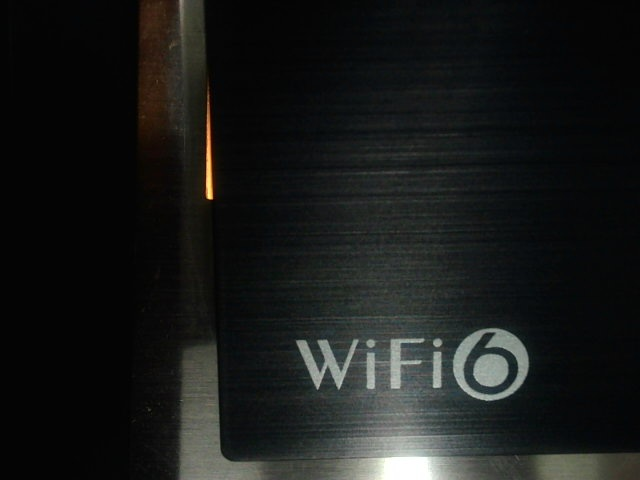AK_ZTEWIFI6Black: (286, 321, 538, 414)
